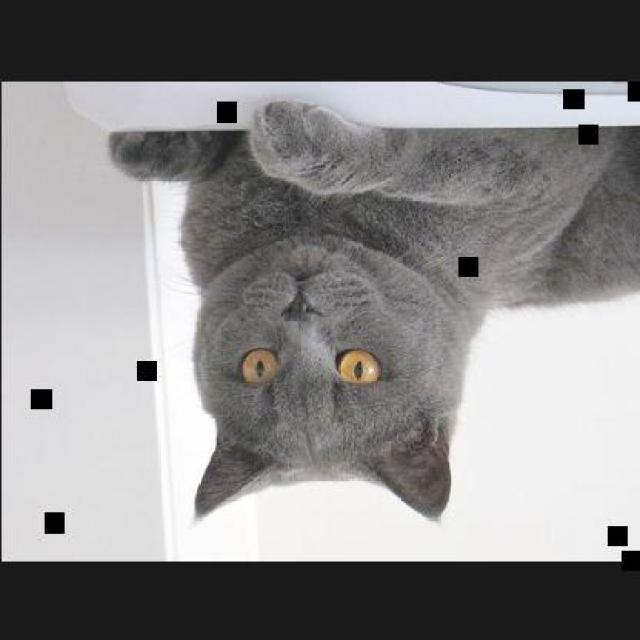unauthorized: (106, 97, 639, 521)
